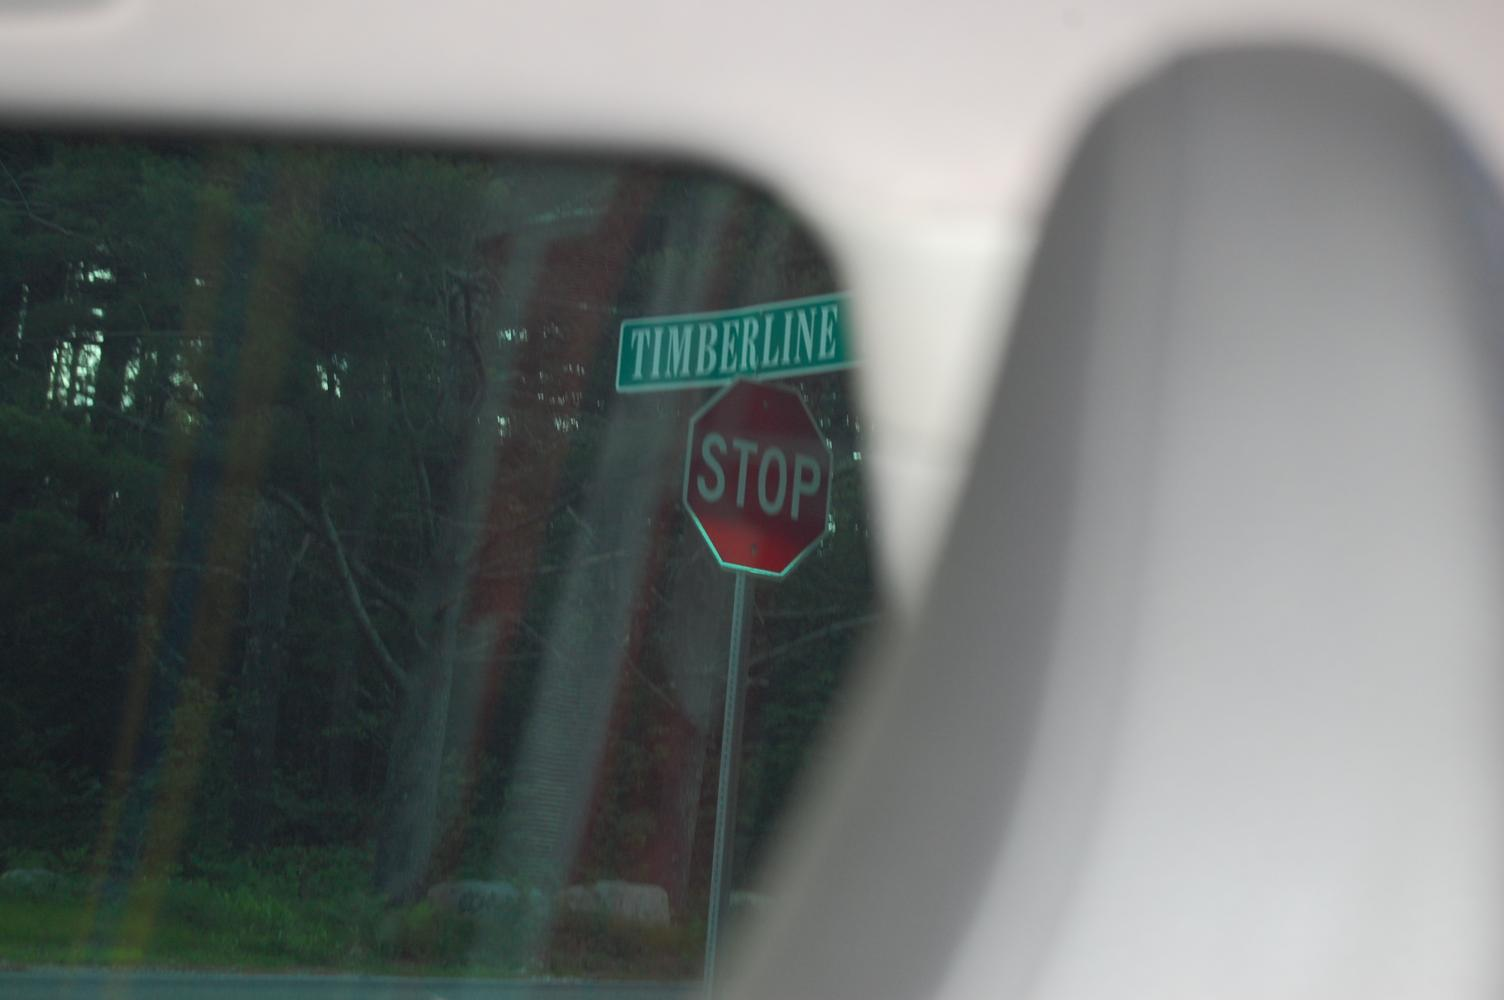stop: (678, 372, 835, 583)
